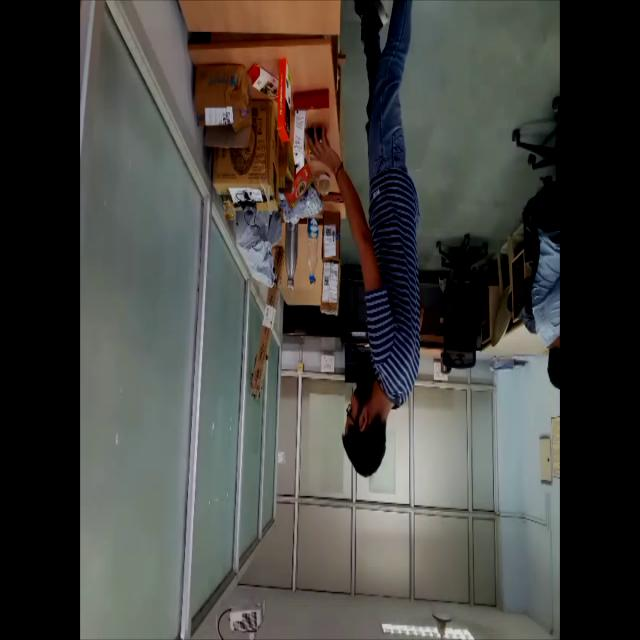normal: (304, 2, 430, 475)
